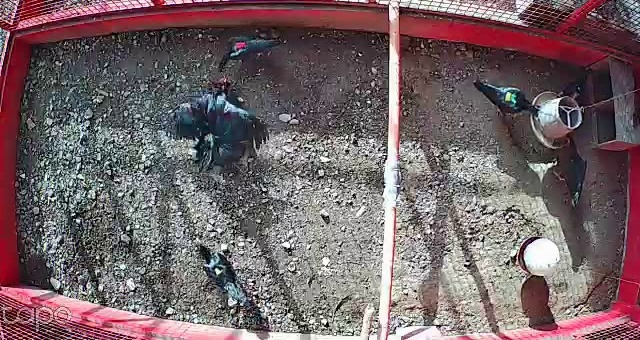Chicken: (192, 239, 251, 308), (211, 28, 291, 76), (468, 71, 541, 121), (548, 133, 590, 214), (555, 65, 597, 105), (189, 235, 190, 236)
Rooster: (164, 73, 275, 182)
Saddle_Color_Red: (234, 42, 247, 49)
Saddle_Color_Yellow: (211, 266, 225, 277)
Saddle_Color_YellowGreen: (502, 87, 516, 104)
